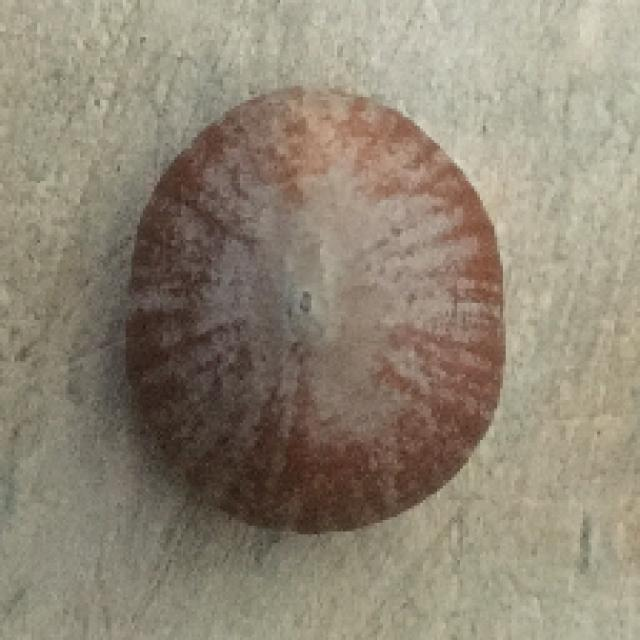qualityHazelnut: (124, 90, 504, 528)
